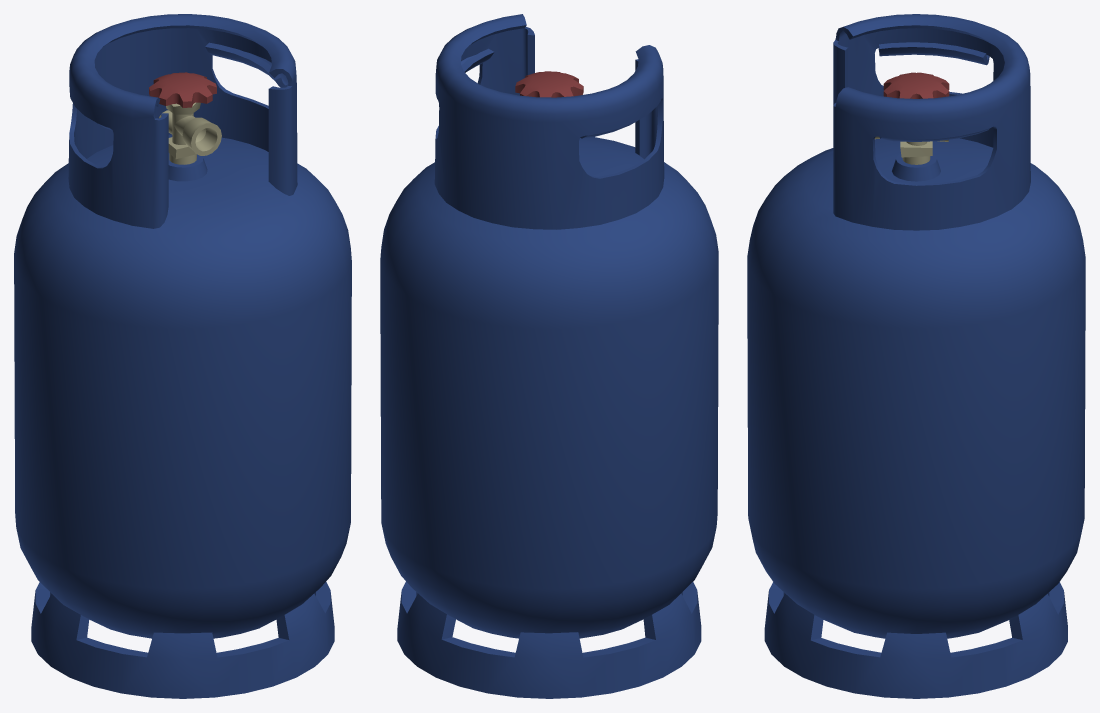
Rendered from gas.fbx.
3 views of the same model, side by side, from view 1: azimuth 30°, elevation 25°; view 2: azimuth 150°, elevation 25°; view 3: azimuth 270°, elevation 25° (orthographic).
Parts seen in each view (by area): view 1: SM_GasCylinderUnposed; view 2: SM_GasCylinderUnposed; view 3: SM_GasCylinderUnposed.
Part boxes in pixels (bbox=[...]): SM_GasCylinderUnposed: bbox=[14, 14, 351, 698]; SM_GasCylinderUnposed: bbox=[380, 14, 718, 698]; SM_GasCylinderUnposed: bbox=[747, 14, 1085, 698].
Bounding box in the file's own units: 3197 × 6010 × 3197.
